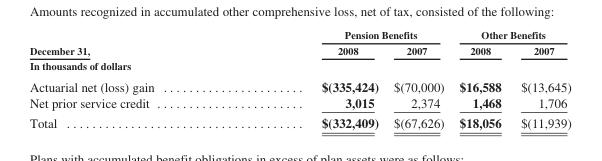table: (28, 28, 570, 130)
table column: (28, 28, 237, 130), (237, 28, 385, 130), (385, 28, 451, 130), (510, 28, 570, 130), (451, 28, 510, 130)
table column header: (28, 28, 570, 57)
table projected row header: (28, 57, 570, 75)
table row: (28, 75, 570, 94), (28, 57, 570, 75), (28, 94, 570, 112), (28, 112, 570, 130), (28, 42, 570, 57), (28, 28, 570, 42)
table spanning cell: (28, 28, 237, 57), (237, 28, 451, 42), (451, 28, 570, 42)
